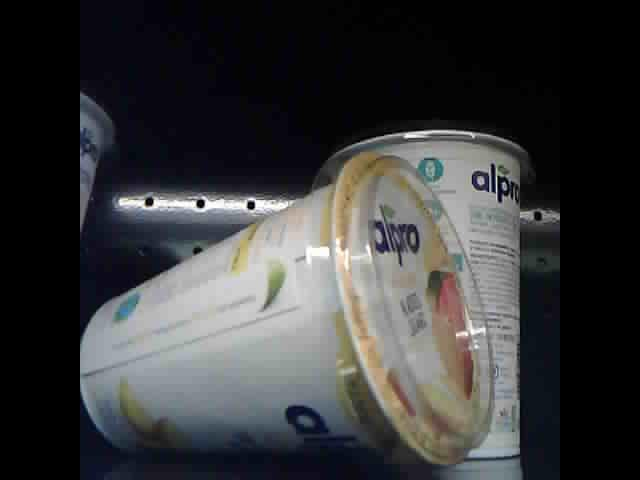alpro: (80, 153, 498, 470), (322, 126, 536, 464), (81, 85, 121, 233)
